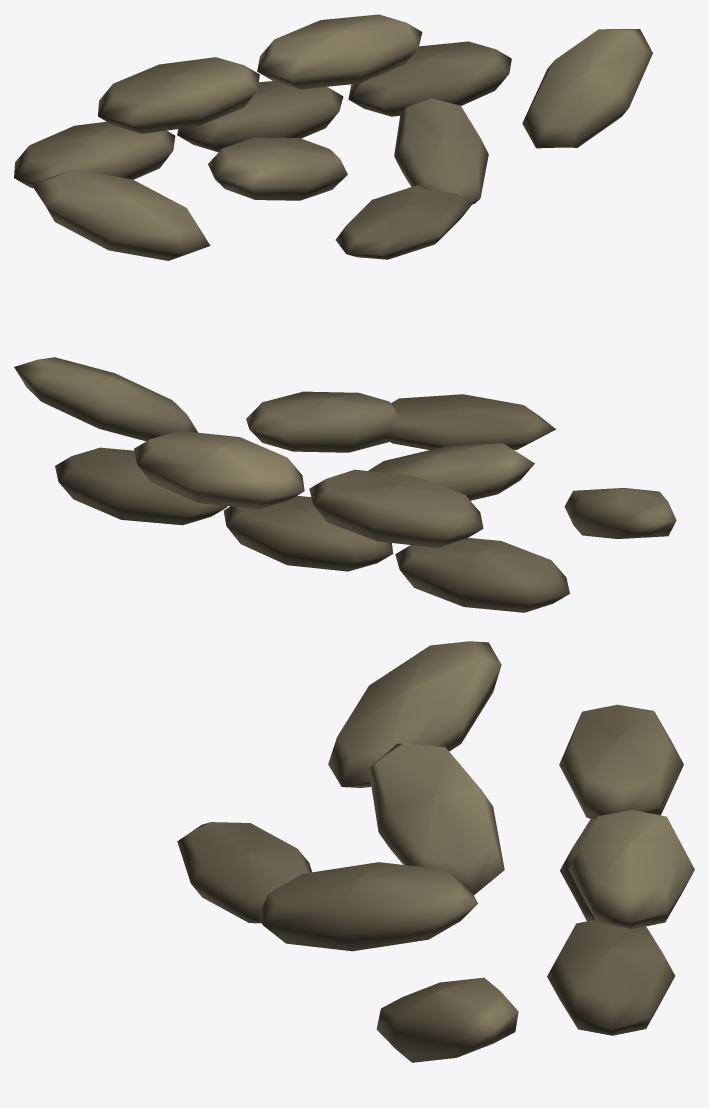
File: m01_prop_sandbag_burst_lod0.glb
3 renders of one model, top to bottom at view 1: azimuth 30°, elevation 25°; view 2: azimuth 150°, elevation 25°; view 3: azimuth 270°, elevation 25°, orthographic. The views are drawn at different scales.
Parts seen in each view (by area): view 1: sandbag_burst; view 2: sandbag_burst; view 3: sandbag_burst.
Boxes of the visible parts, left/top/right/bottom form: sandbag_burst: left=14, top=14, right=652, bottom=260; sandbag_burst: left=14, top=357, right=676, bottom=612; sandbag_burst: left=177, top=641, right=694, bottom=1062.
Bounding box in the file's own units: 2.24 × 0.304 × 1.65.
